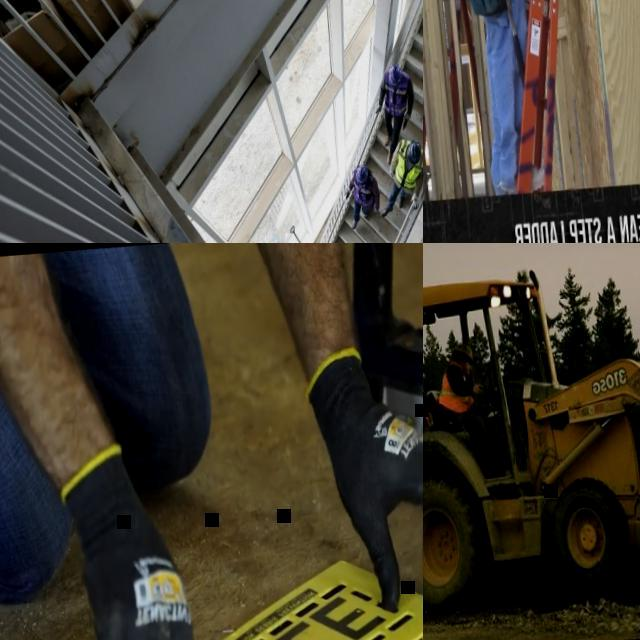helmet: (454, 340, 476, 360), (388, 63, 404, 89), (407, 139, 423, 165), (354, 165, 370, 187)
machinery: (423, 243, 640, 634)
no_mask: (461, 363, 473, 377)
person: (0, 243, 423, 640), (438, 0, 602, 195), (434, 338, 506, 483), (372, 62, 421, 166), (374, 136, 423, 218), (342, 165, 383, 230)
vest: (437, 358, 478, 414), (393, 136, 423, 188), (382, 67, 413, 116), (353, 166, 377, 203)
